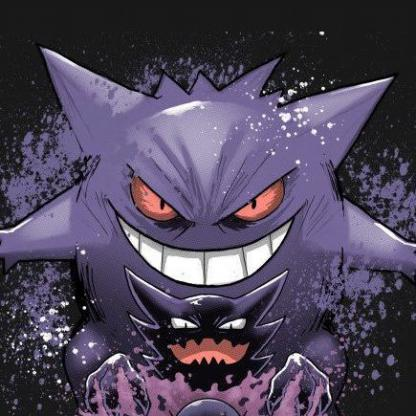Gengar: (1, 38, 416, 366)
